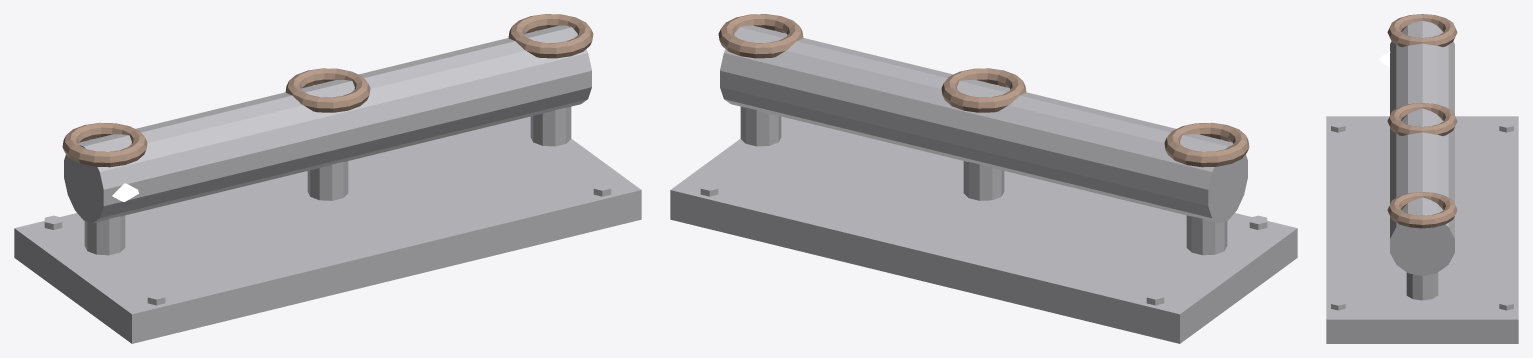
Rendered from pipeline_uncommon.glb.
3 views of the same model, side by side, from view 1: azimuth 30°, elevation 25°; view 2: azimuth 150°, elevation 25°; view 3: azimuth 270°, elevation 25° (orthographic). The views are drawn at different scales.
Parts seen in each view (by area): view 1: pipeline; view 2: pipeline; view 3: pipeline.
Part boxes in pixels (<box>): pipeline: <box>14,14,641,343</box>; pipeline: <box>670,14,1297,343</box>; pipeline: <box>1326,14,1518,343</box>.
Bounding box in the file's own units: 2.94 × 0.84 × 1.15.
